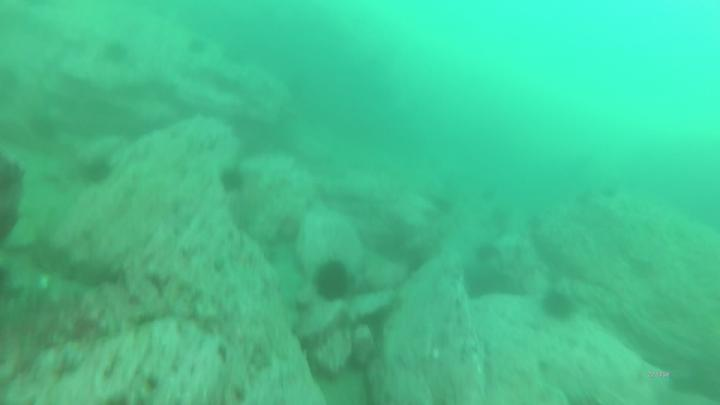echinus: (314, 255, 355, 307), (540, 285, 582, 325), (218, 167, 250, 197), (86, 155, 115, 187), (100, 37, 128, 68), (183, 34, 210, 60), (429, 193, 455, 219), (475, 239, 502, 264), (598, 184, 621, 205)
